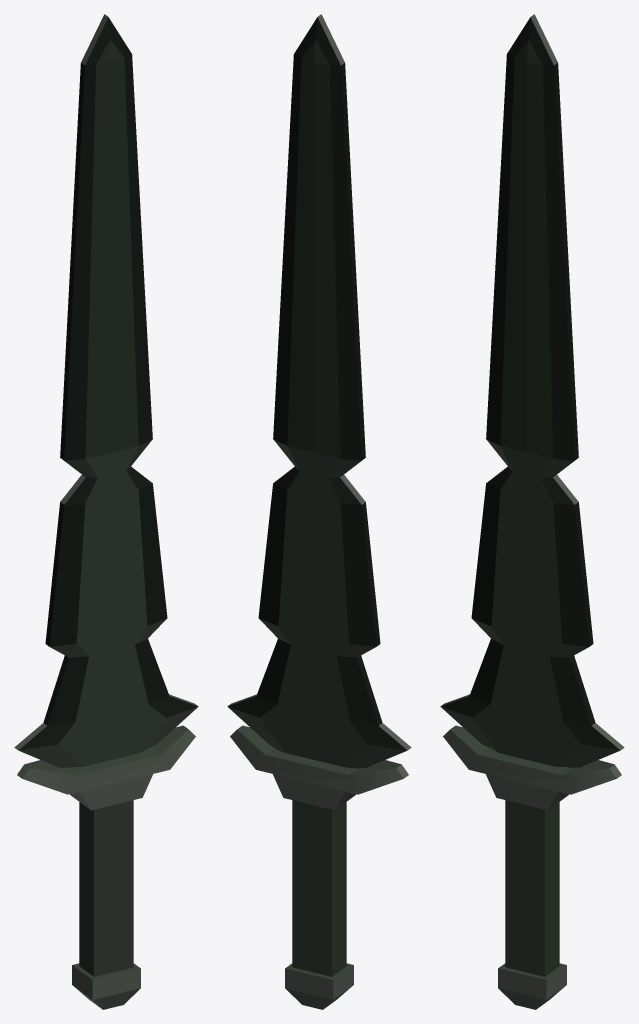
The model's file is SF_Wep_Elven_Greatsword_01.glb.
3 renders of one model, left to right at view 1: azimuth 30°, elevation 25°; view 2: azimuth 150°, elevation 25°; view 3: azimuth 330°, elevation 25°, orthographic.
Parts seen in each view (by area): view 1: SF_Wep_Elven_Greatsword_01; view 2: SF_Wep_Elven_Greatsword_01; view 3: SF_Wep_Elven_Greatsword_01.
Part boxes in pixels (bbox=[...]): SF_Wep_Elven_Greatsword_01: bbox=[14, 14, 198, 1009]; SF_Wep_Elven_Greatsword_01: bbox=[227, 14, 411, 1009]; SF_Wep_Elven_Greatsword_01: bbox=[440, 14, 624, 1009].
Bounding box in the file's own units: 0.00605 × 0.0316 × 0.00146.
Materials: 1 (1 with a texture image).
